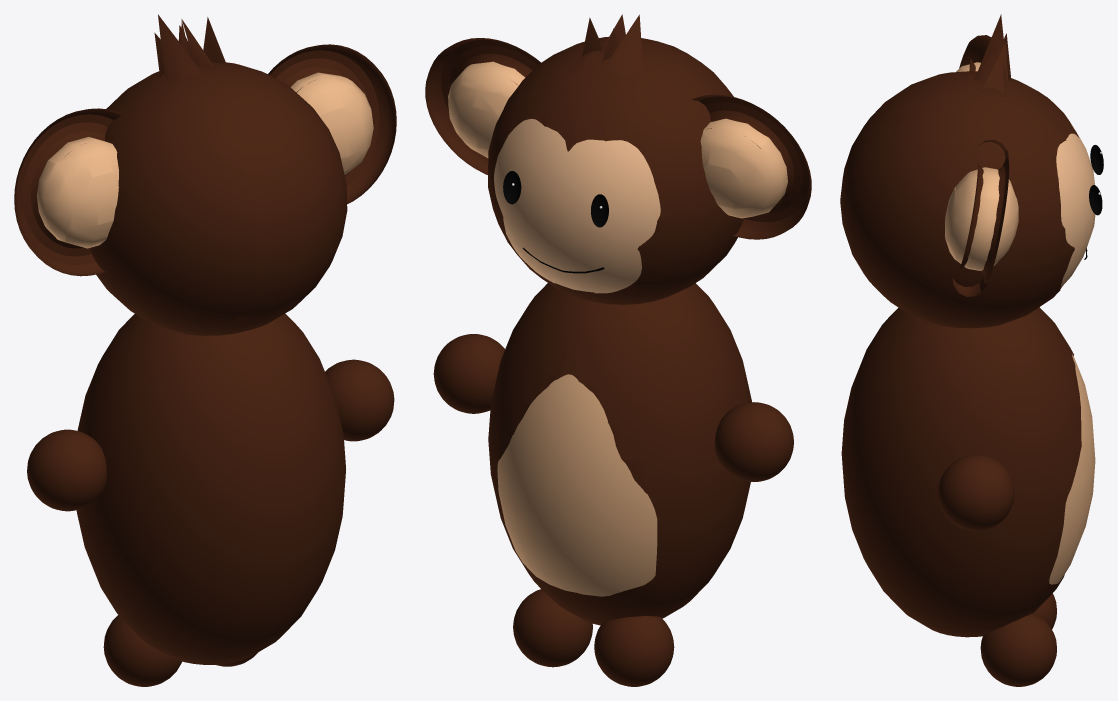
Rendered from MonkeyModel.fbx.
3 views of the same model, side by side, from view 1: azimuth 30°, elevation 25°; view 2: azimuth 150°, elevation 25°; view 3: azimuth 270°, elevation 25° (orthographic). The views are drawn at different scales.
Visible parts, largest first — view 1: Sphere_008, Sphere_002, Torus, Sphere_010, Sphere_011, Sphere_009, Cone_001; view 2: Sphere_008, Sphere_002, Sphere_003, Torus, Sphere, Sphere_010, Sphere_009, Sphere_011, Sphere_001, Cone_001; view 3: Sphere_008, Sphere_002, Torus, Sphere_011, Sphere_001, Sphere, Sphere_003, Cone_001, Sphere_009.
Boxes of the visible parts, bbox=[...] form: Sphere_008: bbox=[76, 313, 345, 664]; Sphere_002: bbox=[91, 62, 347, 335]; Torus: bbox=[14, 44, 396, 276]; Sphere_010: bbox=[27, 429, 106, 511]; Sphere_011: bbox=[325, 359, 394, 441]; Sphere_009: bbox=[103, 615, 181, 686]; Cone_001: bbox=[154, 14, 226, 80]; Sphere_008: bbox=[488, 283, 751, 625]; Sphere_002: bbox=[488, 37, 744, 304]; Sphere_003: bbox=[497, 374, 657, 596]; Torus: bbox=[425, 38, 811, 239]; Sphere: bbox=[494, 119, 660, 293]; Sphere_010: bbox=[714, 402, 793, 481]; Sphere_009: bbox=[594, 616, 674, 686]; Sphere_011: bbox=[433, 334, 504, 413]; Sphere_001: bbox=[513, 589, 592, 667]; Cone_001: bbox=[581, 14, 642, 75]; Sphere_008: bbox=[841, 307, 1081, 637]; Sphere_002: bbox=[840, 71, 1078, 328]; Torus: bbox=[945, 35, 1018, 296]; Sphere_011: bbox=[938, 454, 1014, 531]; Sphere_001: bbox=[980, 613, 1056, 686]; Sphere: bbox=[1056, 122, 1095, 287]; Sphere_003: bbox=[1049, 354, 1095, 584]; Cone_001: bbox=[974, 14, 1011, 95]; Sphere_009: bbox=[1034, 593, 1056, 629].
Size of the model in its own units: 325 by 547 by 206.
